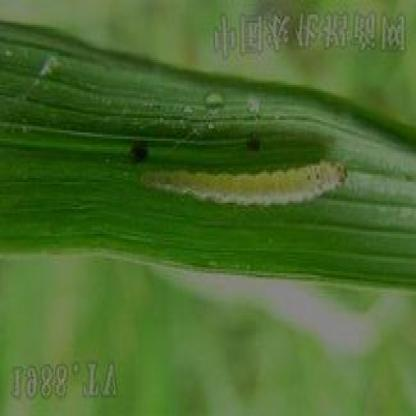leaf-folder: (130, 126, 348, 231)
